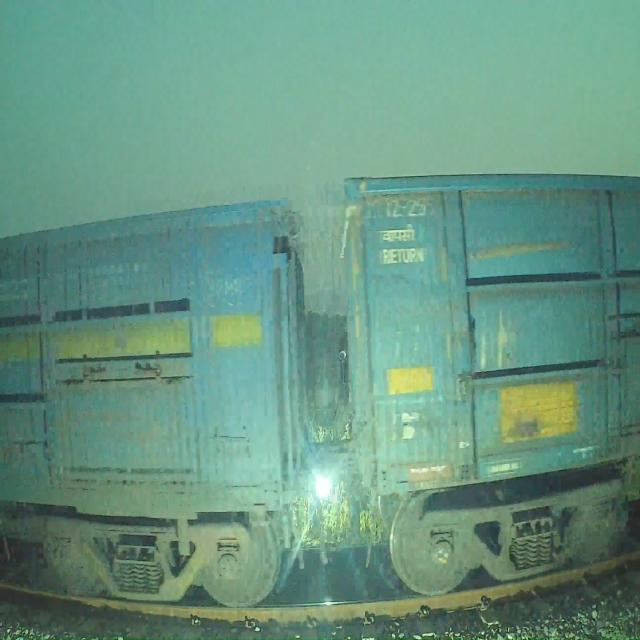WAgon-uic: (0, 190, 320, 612), (338, 165, 640, 597)
